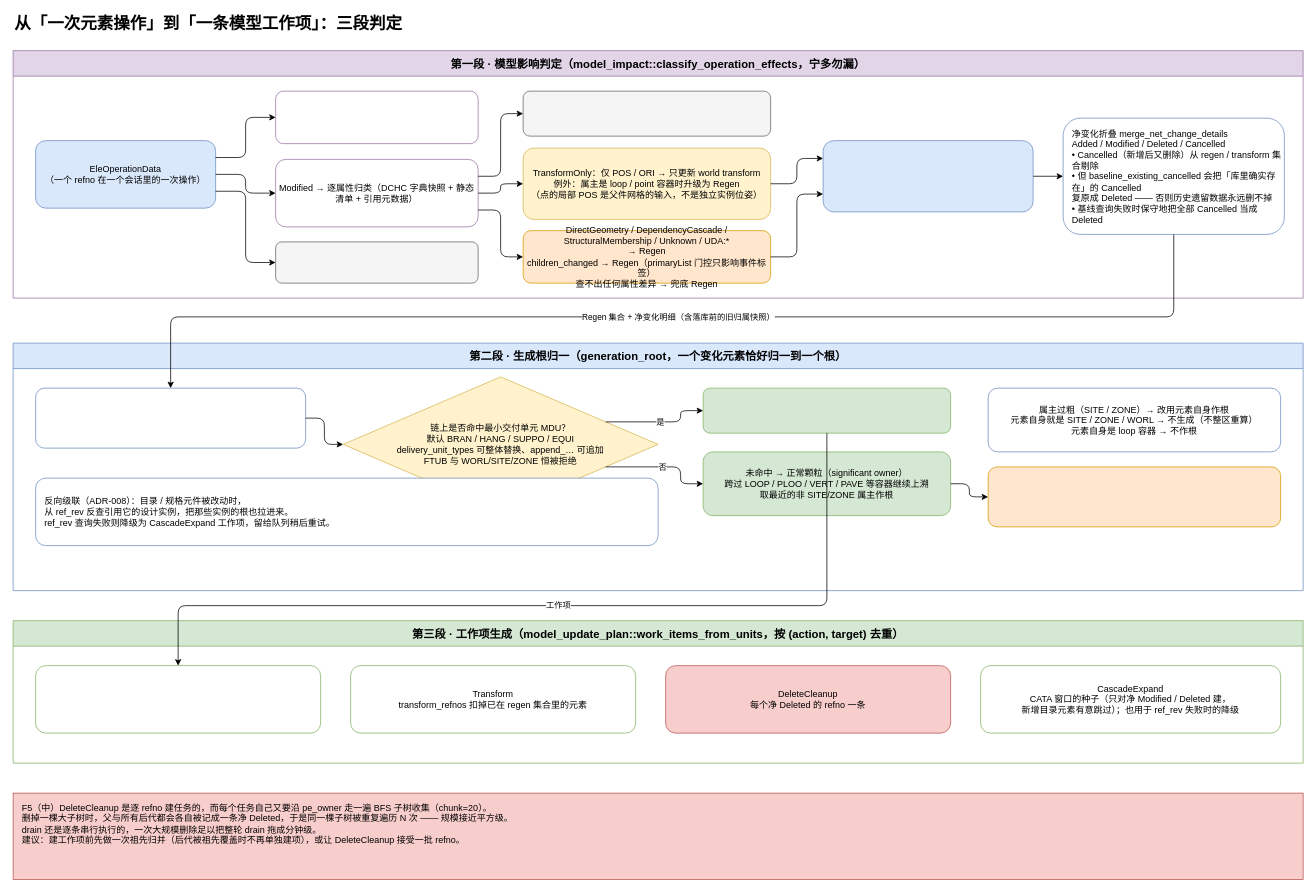
This 1316x893 diagram has some shape labels left out. Here are the shapes that lost their labels. From the top down, the centre of each, then its label:
point 376,117: Add / Deleted → Regen（结构成员效果）
point 646,113: DataOnly：NAME / DESC / PURP / FUNCTION / CACHID / LCHKDA → 忽略
point 927,176: OperationImpact Regen / TransformOnly / Skip Regen 吸收同一元素的 TransformOnly
point 376,262: None → Skip
point 170,417: 沿 OWNER 链上溯，最多 MAX_ANCESTOR_DEPTH = 32 层 遇到 SITE / ZONE / WORL 即停（成环则整条链作废）
point 826,410: 命中 → 交付单元根（取最近的一个）
point 1134,496: 搬迁（OWNER 变化）：旧根与新根两端都要重生成 旧归属必须在落库前快照，落库后 owner 图已经是新的
point 178,699: RegenRoot 每个 will_generate 的交付单元一条
